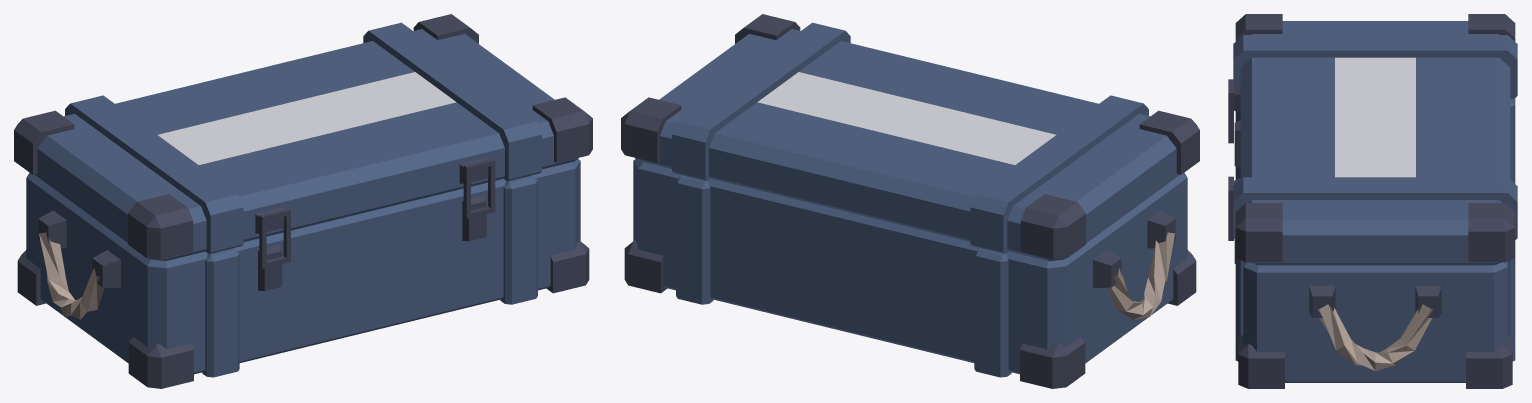
File: ammo-crate-ee3ec0.glb
3 renders of one model, left to right at view 1: azimuth 30°, elevation 25°; view 2: azimuth 150°, elevation 25°; view 3: azimuth 270°, elevation 25°, orthographic. The views are drawn at different scales.
Parts seen in each view (by area): view 1: crate-lid-matte, crate-body-matte, crate-body-metal, crate-lid-metal; view 2: crate-lid-matte, crate-body-matte, crate-lid-metal, crate-body-metal; view 3: crate-lid-matte, crate-body-matte, crate-lid-metal, crate-body-metal.
Boxes of the visible parts, x1,y1,x2,y2 form: crate-lid-matte: (34,22,578,261); crate-body-matte: (26,159,580,377); crate-body-metal: (17,158,589,388); crate-lid-metal: (14,14,592,259); crate-lid-matte: (635,22,1179,261); crate-body-matte: (633,159,1187,377); crate-lid-metal: (621,14,1199,259); crate-body-metal: (624,210,1196,388); crate-lid-matte: (1233,21,1517,265); crate-body-matte: (1235,98,1515,382); crate-lid-metal: (1234,14,1515,262); crate-body-metal: (1228,79,1512,388).
Bounding box in the file's own units: 0.8784 × 0.3 × 0.464.
